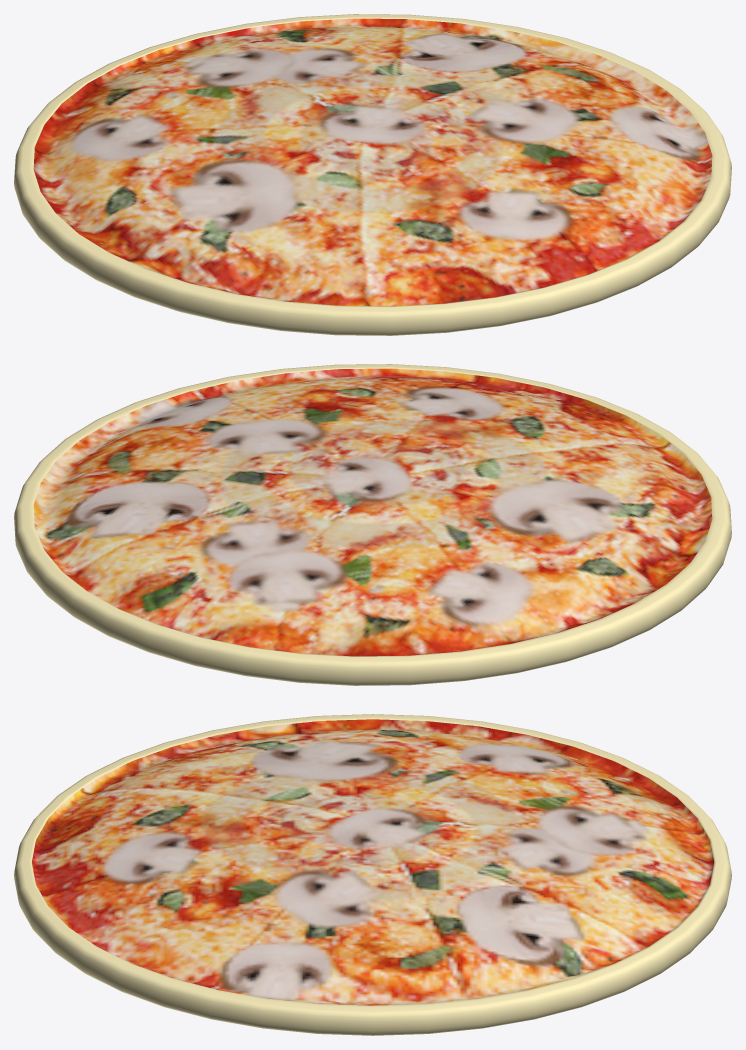
The model's file is pizzaMushroom.gltf.
The picture shows the model from 3 angles, top to bottom: view 1: azimuth 30°, elevation 25°; view 2: azimuth 150°, elevation 25°; view 3: azimuth 270°, elevation 25°; orthographic projection.
Bounding box in the file's own units: 0.6849 × 0.0628 × 0.6849.
Materials: 3 (1 with a texture image).
